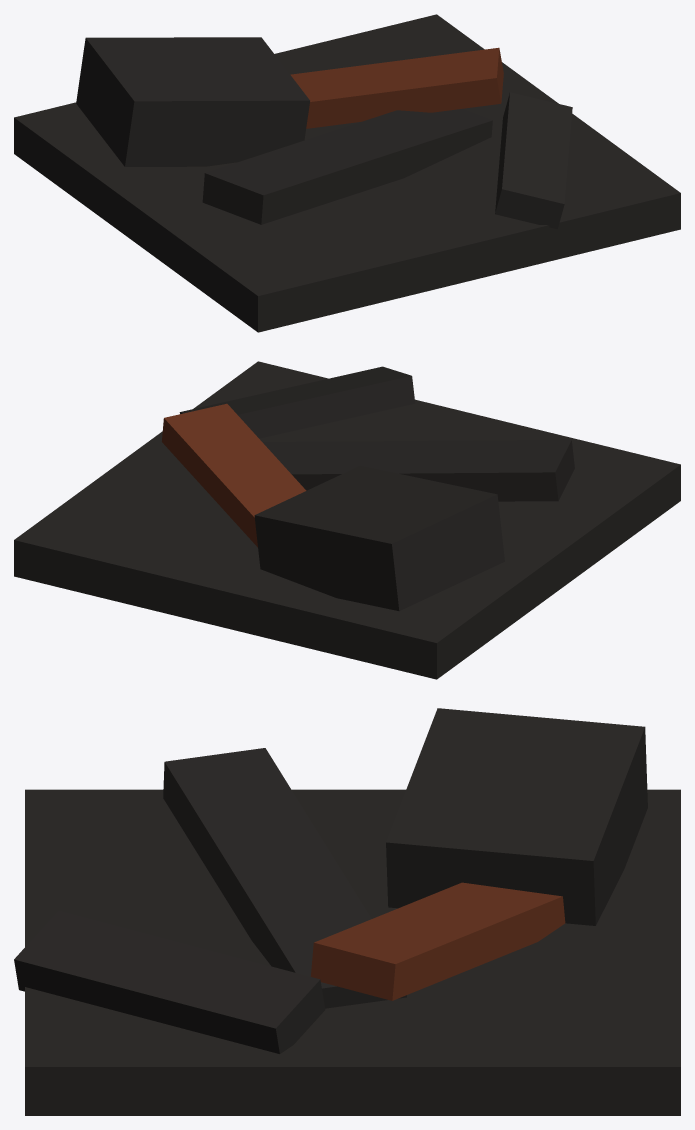
The model's file is RF_Structure_DepotAmmo_Destroyed.glb.
The picture shows the model from 3 angles, top to bottom: view 1: azimuth 30°, elevation 25°; view 2: azimuth 150°, elevation 25°; view 3: azimuth 270°, elevation 25°; orthographic projection. The views are drawn at different scales.
Visible parts, largest first — view 1: RF_Structure_DepotAmmo_Destroyed; view 2: RF_Structure_DepotAmmo_Destroyed; view 3: RF_Structure_DepotAmmo_Destroyed.
Part boxes in pixels (box(x1,y1,x2,y2)): RF_Structure_DepotAmmo_Destroyed: box(14, 14, 680, 332); RF_Structure_DepotAmmo_Destroyed: box(14, 361, 680, 679); RF_Structure_DepotAmmo_Destroyed: box(14, 708, 680, 1115).
Bounding box in the file's own units: 3.4 × 0.858 × 3.46.
